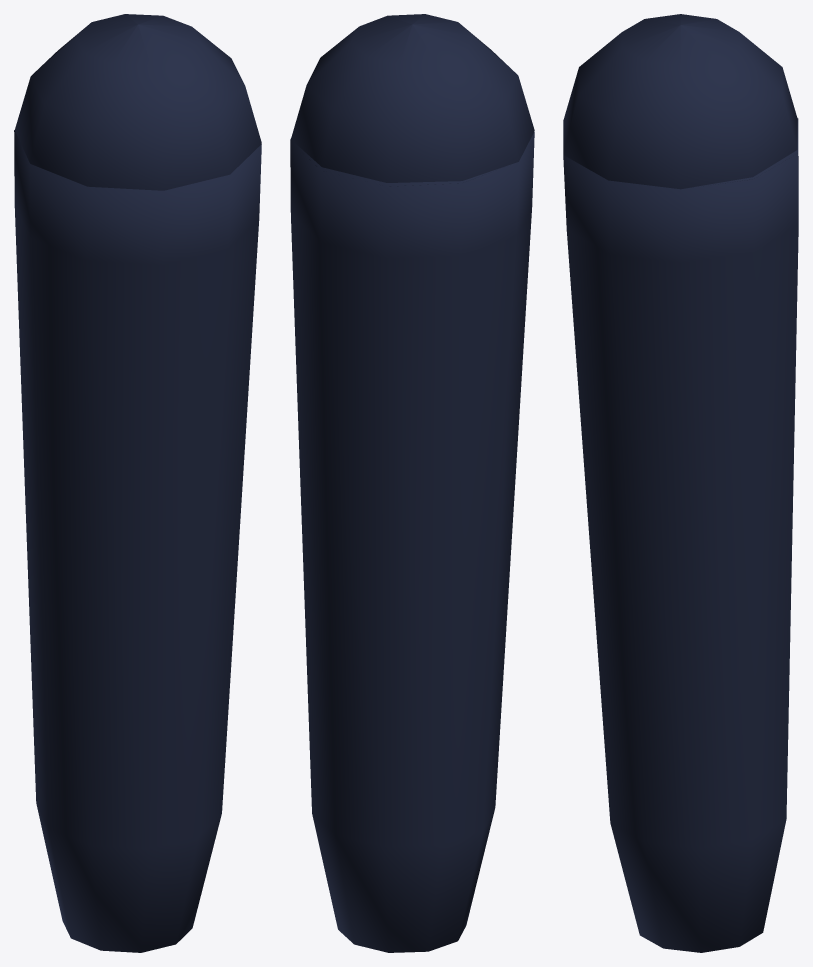
Rendered from shin_R.obj.
3 views of the same model, side by side, from view 1: azimuth 30°, elevation 25°; view 2: azimuth 150°, elevation 25°; view 3: azimuth 270°, elevation 25° (orthographic).
Parts seen in each view (by area): view 1: shin_R; view 2: shin_R; view 3: shin_R.
Part boxes in pixels (x1,y1,x2,y2): shin_R: [14, 14, 261, 952]; shin_R: [290, 14, 534, 952]; shin_R: [563, 14, 798, 952].
Bounding box in the file's own units: 0.1282 × 0.5249 × 0.1221.
